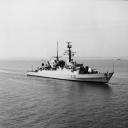Fragata: (27, 38, 116, 87)
